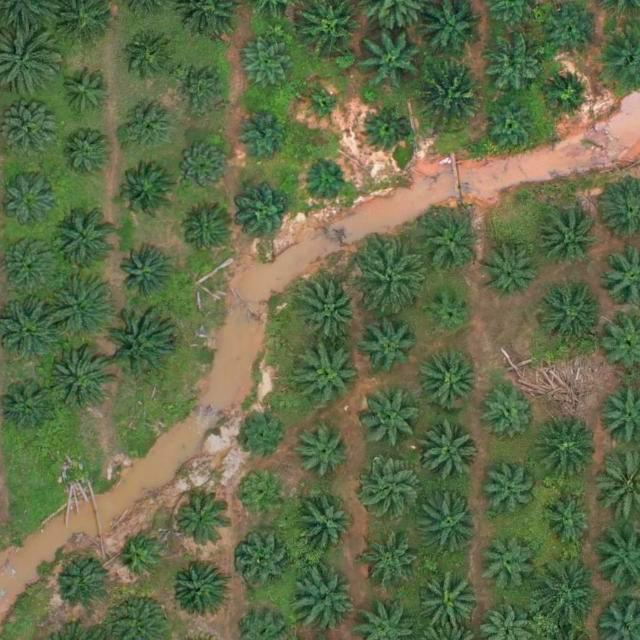Kelapa_Sawit: (354, 243, 424, 314), (360, 24, 430, 94), (416, 57, 486, 127), (532, 559, 602, 629), (103, 309, 173, 379), (42, 269, 112, 339), (420, 211, 482, 274), (479, 38, 541, 101), (536, 206, 598, 269), (420, 573, 482, 636), (537, 281, 599, 344), (357, 457, 419, 520), (290, 420, 352, 483), (46, 347, 108, 410), (53, 209, 115, 271), (294, 495, 356, 557), (295, 567, 357, 629), (534, 418, 596, 480), (417, 349, 479, 411), (417, 419, 479, 481), (417, 491, 479, 553), (360, 385, 422, 447), (300, 279, 362, 341), (294, 345, 356, 407), (123, 34, 178, 89), (56, 126, 111, 181), (239, 38, 294, 93), (238, 188, 293, 243), (539, 66, 594, 121), (477, 538, 532, 593), (366, 539, 421, 594), (234, 468, 289, 523), (54, 554, 109, 609), (539, 489, 594, 544), (483, 245, 538, 300), (3, 236, 58, 291), (178, 204, 232, 259), (175, 138, 229, 193), (175, 62, 229, 117), (54, 68, 108, 123), (118, 99, 172, 154), (116, 162, 170, 217), (3, 107, 57, 162), (236, 104, 290, 159), (485, 100, 539, 155), (543, 1, 597, 56), (235, 531, 289, 586), (173, 494, 227, 549), (171, 560, 225, 615), (481, 460, 535, 515), (479, 383, 533, 438), (360, 321, 414, 376), (235, 406, 289, 461), (119, 248, 173, 303), (119, 533, 165, 580), (361, 105, 407, 152), (426, 289, 472, 336), (302, 157, 348, 203), (303, 88, 342, 127)
